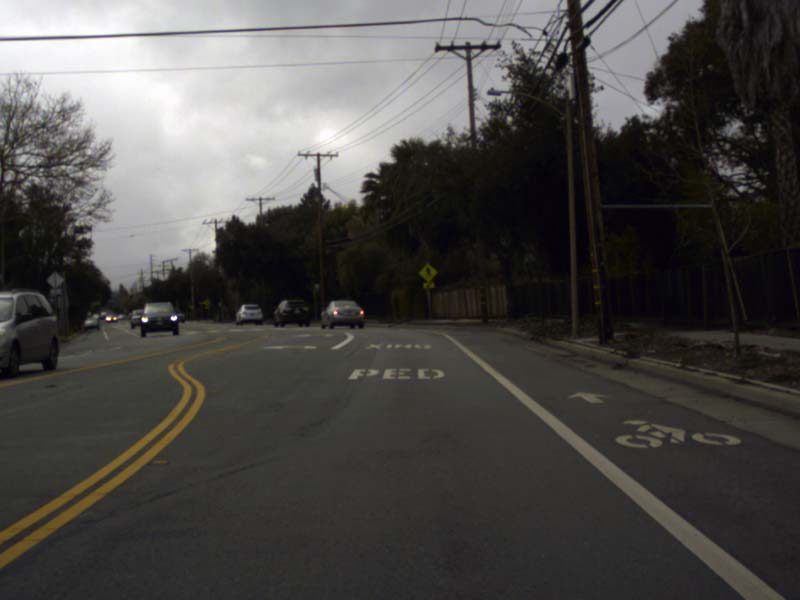Red: (129, 291, 133, 298)
